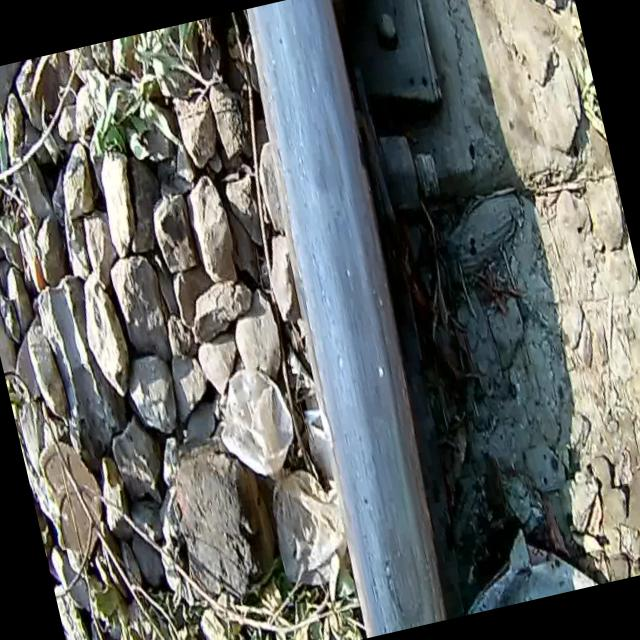Squats: (196, 0, 501, 640)
